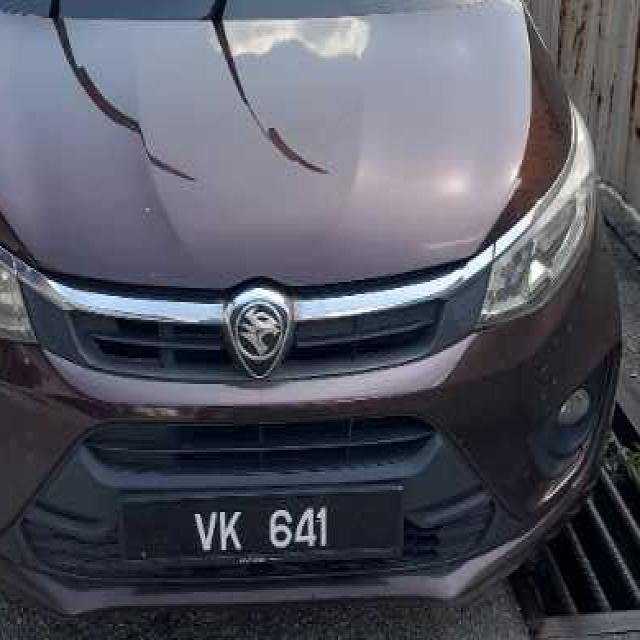car-plate: (91, 486, 432, 582)
